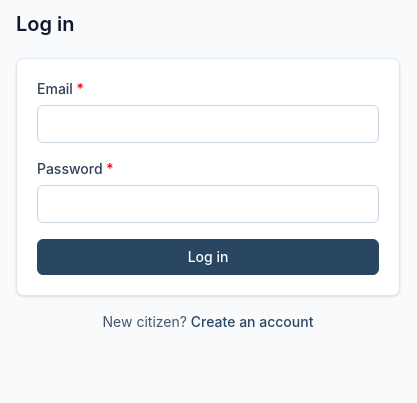
Test case: Login › shows an error message on invalid credentials
Type "a@example.com" into the field labelled "Email *". click: (208, 124)
box: 37,105 -> 379,143
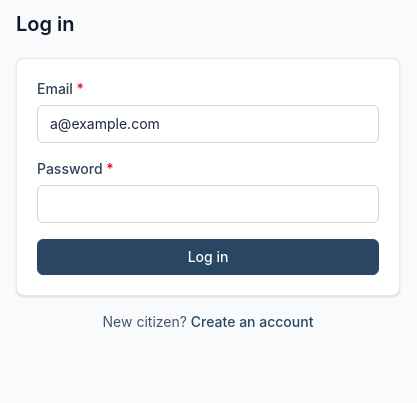
Type "wrong" into the password field labelled "Password *". click: (208, 204)
box: 37,185 -> 379,223
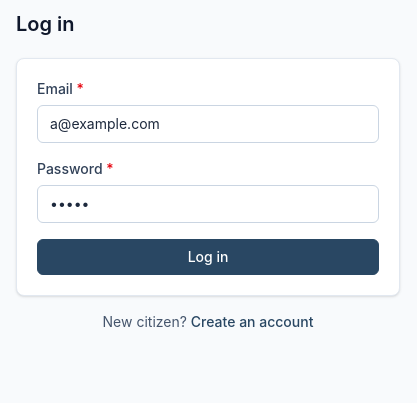
Click the button "Log in". click: (208, 257)
box: 37,239 -> 379,275
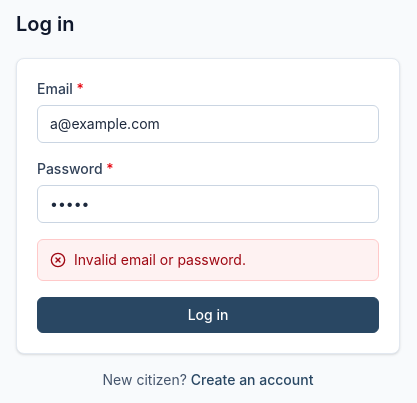
Expected: the message reads "Invalid email or password.", 74,251 -> 246,268
